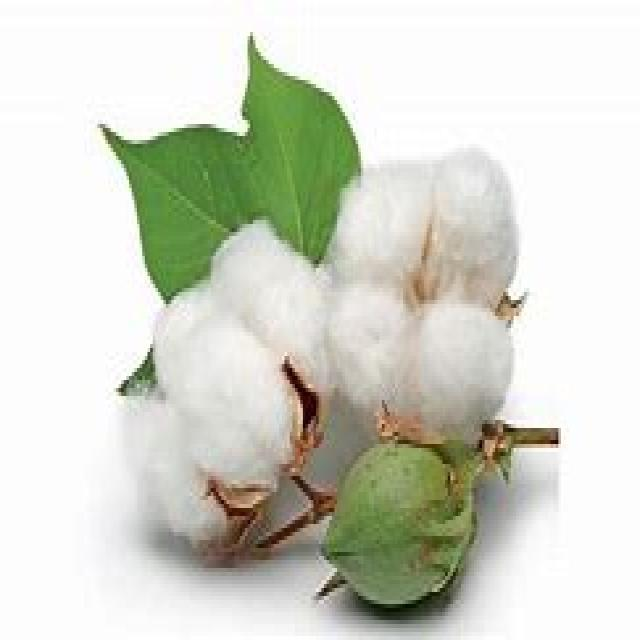Early Boll: (311, 437, 489, 612)
Matured Cotton Boll: (130, 214, 334, 560), (322, 151, 524, 448)
